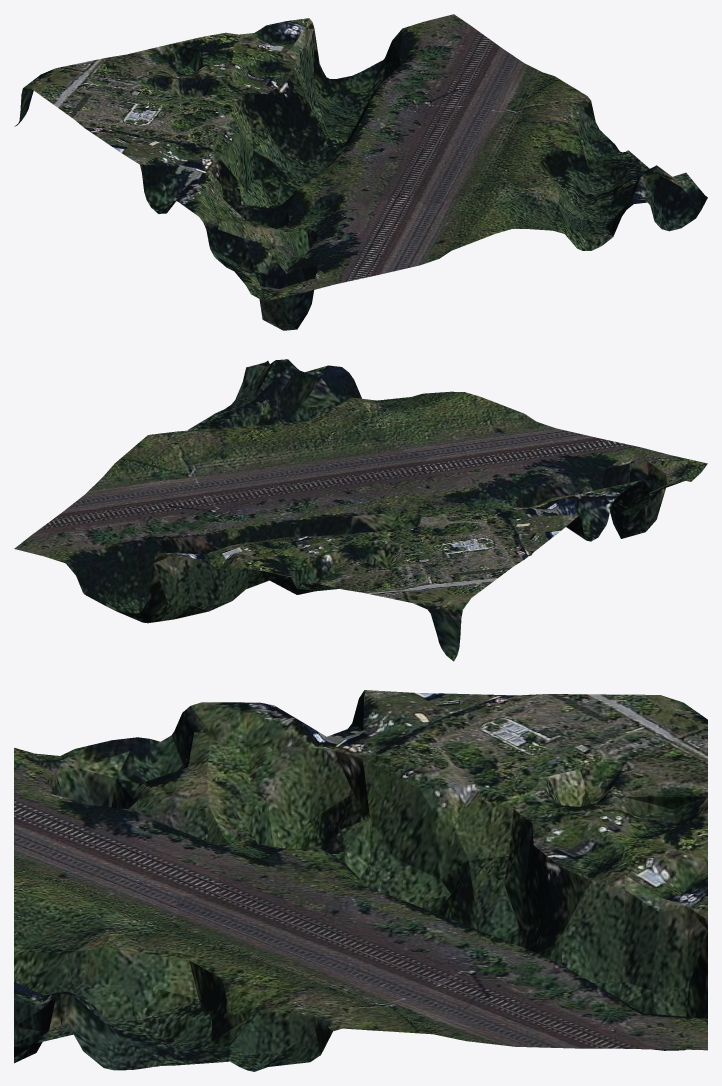
Rendered from map_15_8176_13781.dae.
The picture shows the model from 3 angles, top to bottom: view 1: azimuth 30°, elevation 25°; view 2: azimuth 150°, elevation 25°; view 3: azimuth 270°, elevation 25°; orthographic projection. The views are drawn at different scales.
Parts seen in each view (by area): view 1: Ter0; view 2: Ter0; view 3: Ter0.
Boxes of the visible parts, x1,y1,x2,y2 form: Ter0: [14, 14, 707, 330]; Ter0: [14, 359, 707, 661]; Ter0: [14, 690, 707, 1071].
Size of the model in its own units: 63.88 by 63.88 by 14.5.
3 materials, 3 textured.
